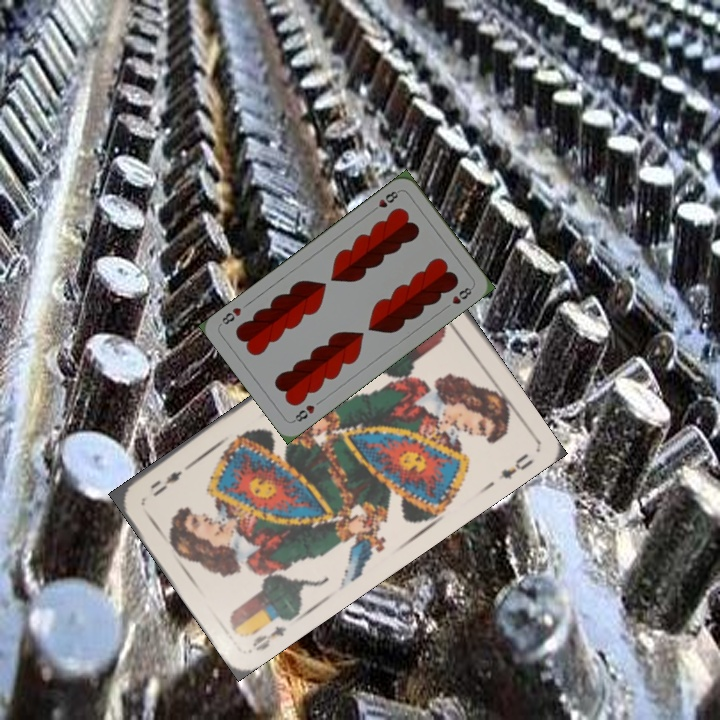EO: (248, 622, 289, 654)
H8: (367, 186, 402, 215), (289, 401, 317, 425)
